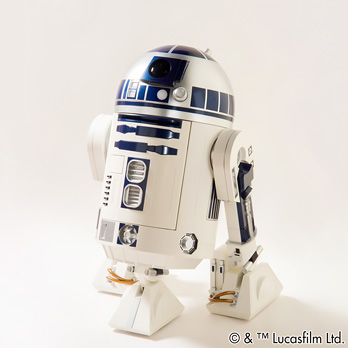r2d2: (88, 45, 284, 336)
